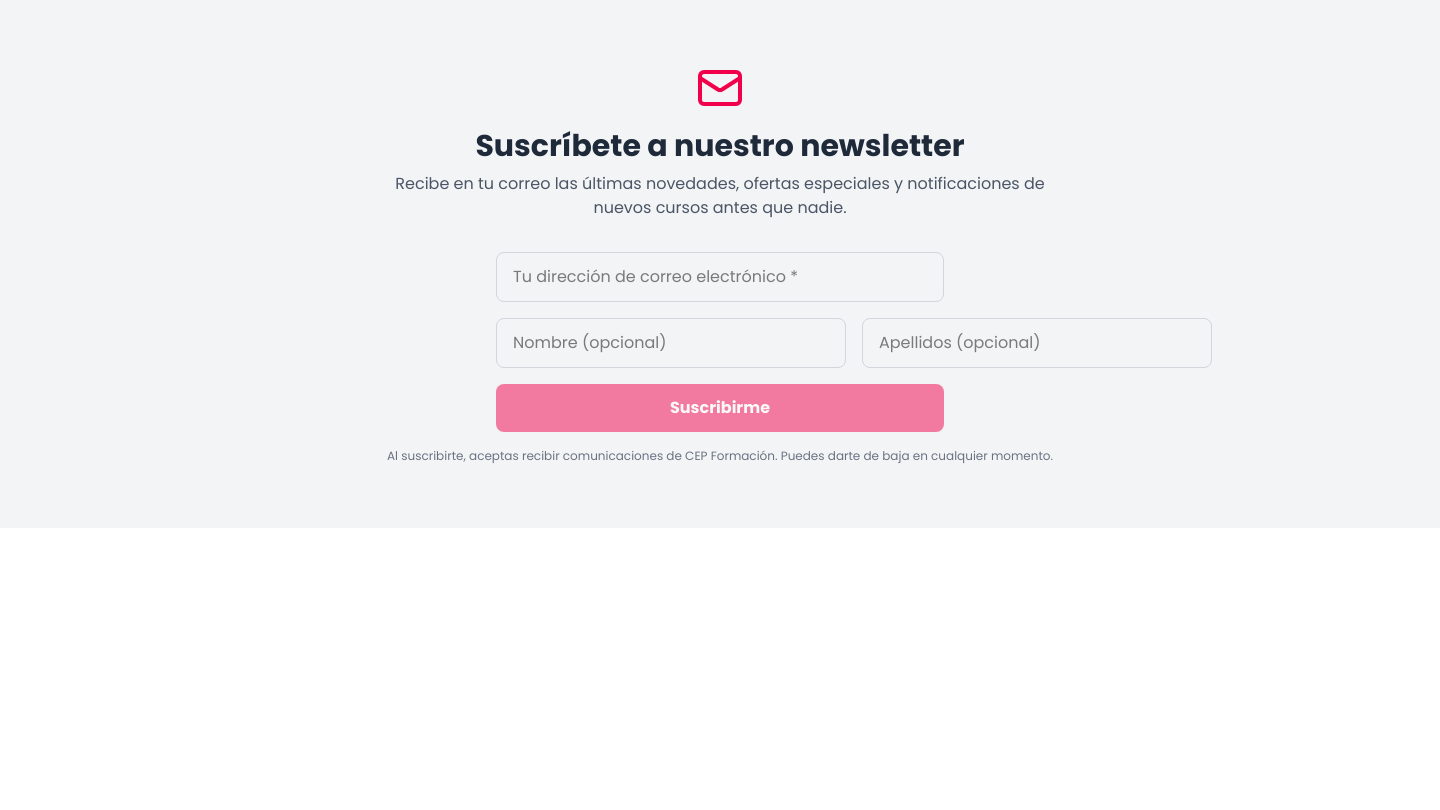
NewsletterSection › handles successful subscription
Step 1. Type "test@example.com" into the field with test id "email-input" → (720, 277), box x1=496 y1=252 x2=944 y2=302
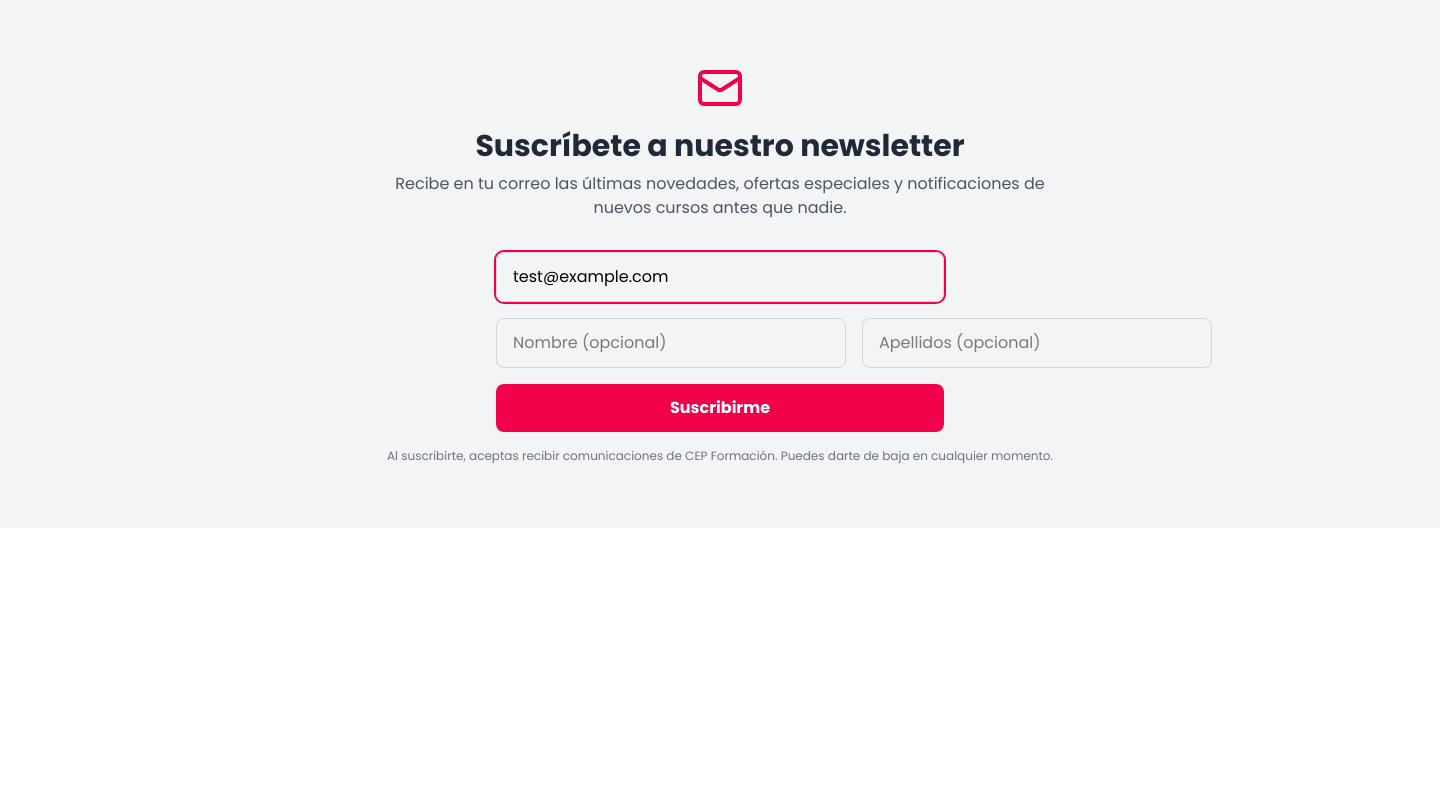
Step 2. Type "Juan" into the field with test id "firstname-input" → (671, 343), box x1=496 y1=318 x2=846 y2=368
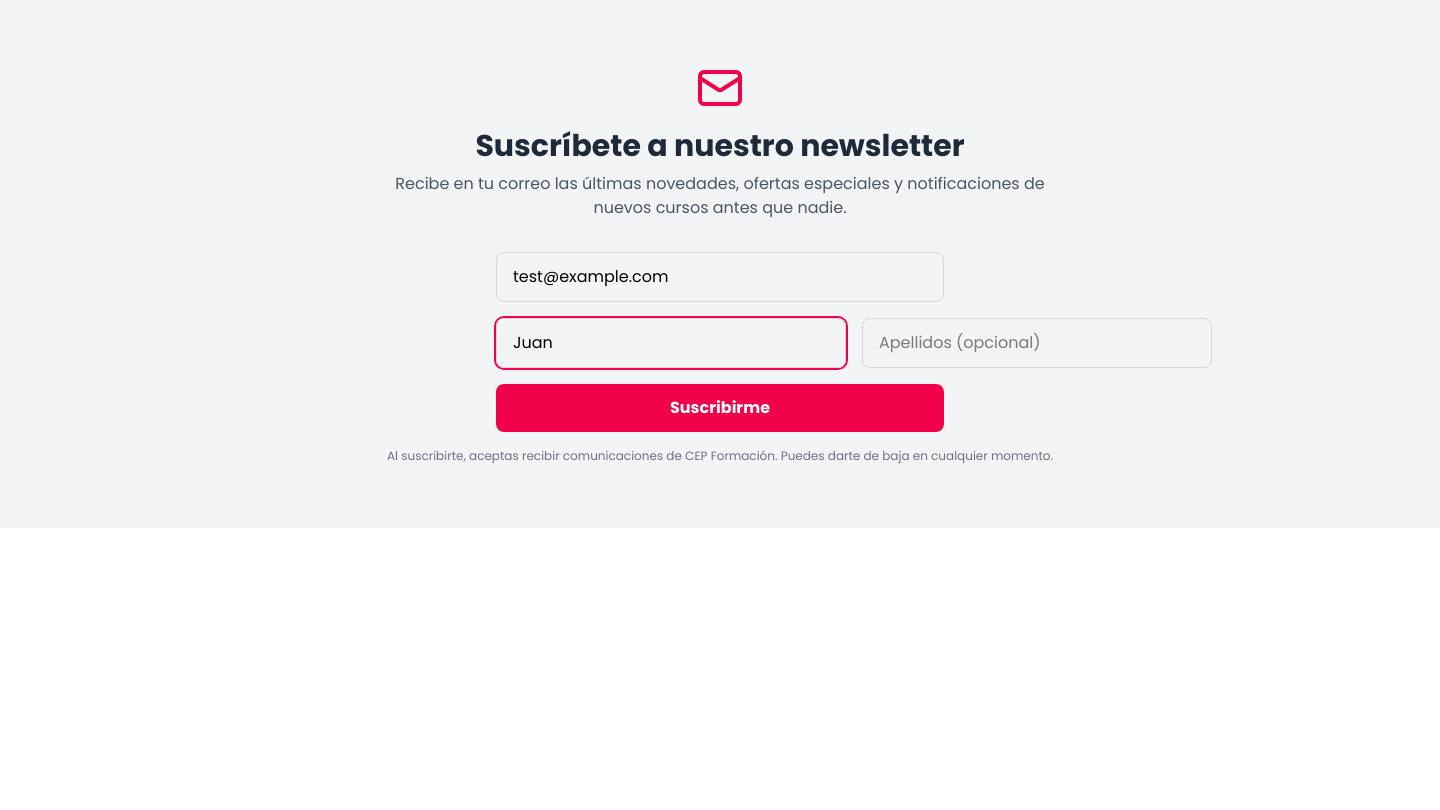
Step 3. Type "Pérez" into the field with test id "lastname-input" → (1037, 343), box x1=862 y1=318 x2=1212 y2=368
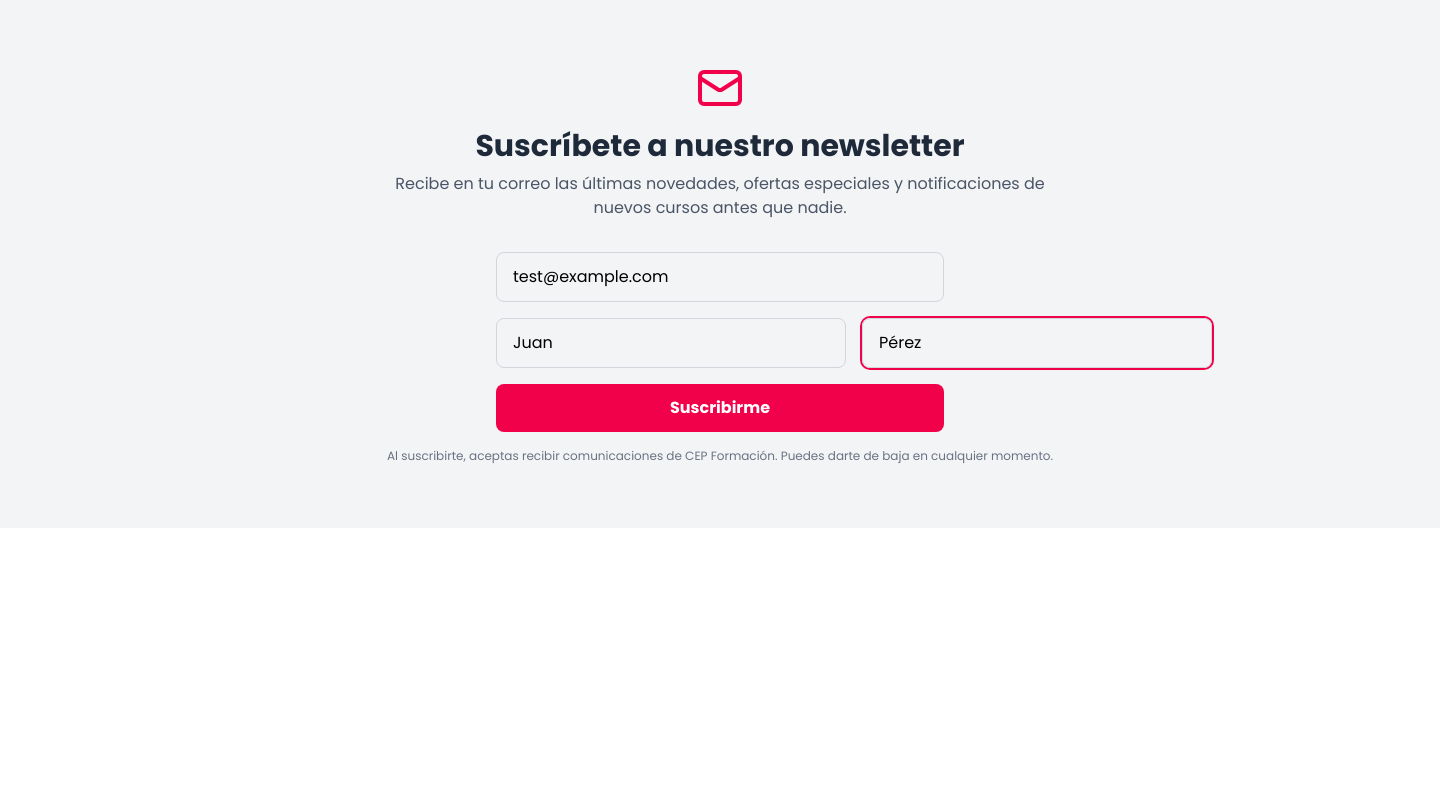
Step 4. Click the button with test id "submit-button" → (720, 408), box x1=496 y1=384 x2=944 y2=432
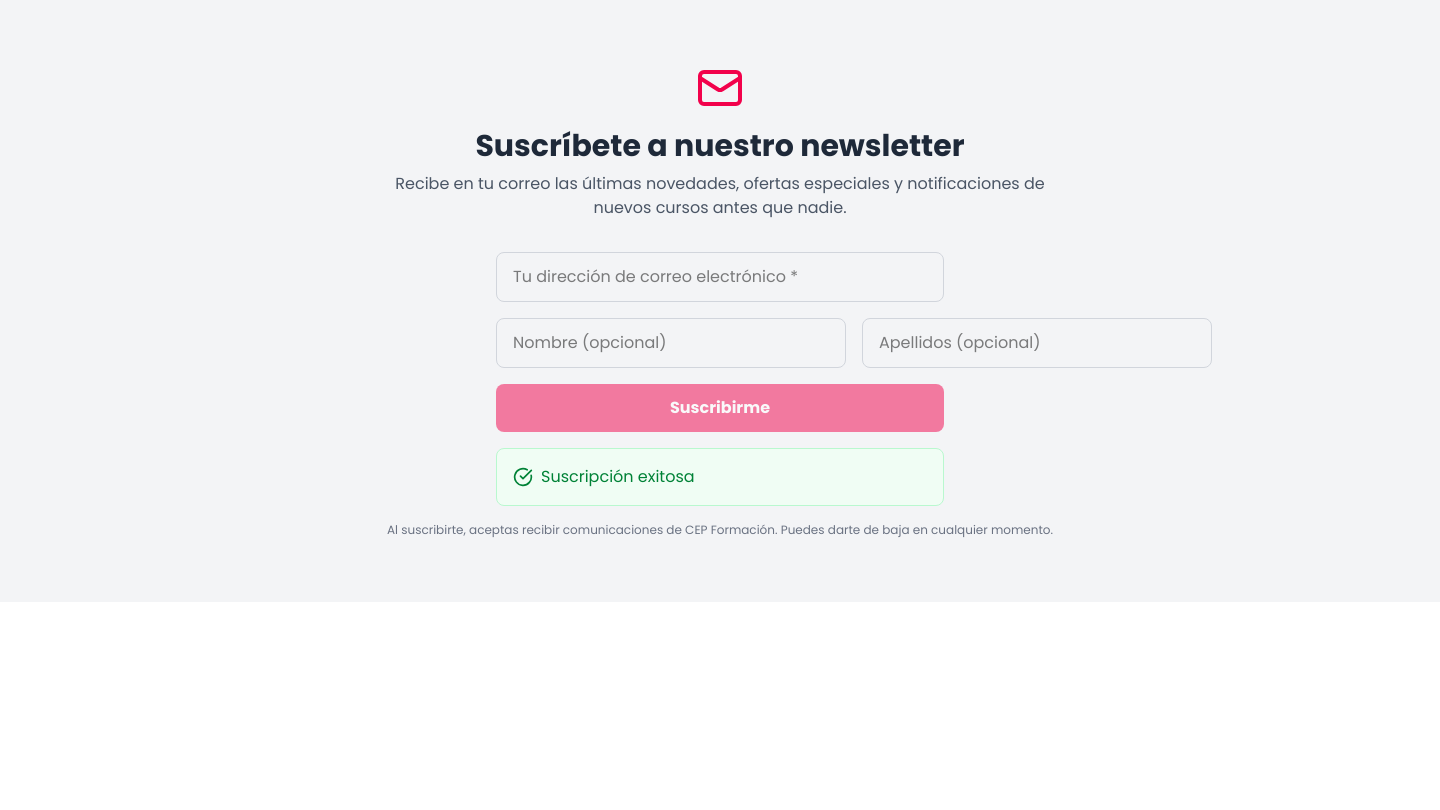
Now the text "Suscripción exitosa" is shown, box x1=541 y1=465 x2=695 y2=489
Now the field with test id "email-input" is empty, box x1=496 y1=252 x2=944 y2=302
Now the field with test id "firstname-input" is empty, box x1=496 y1=318 x2=846 y2=368
